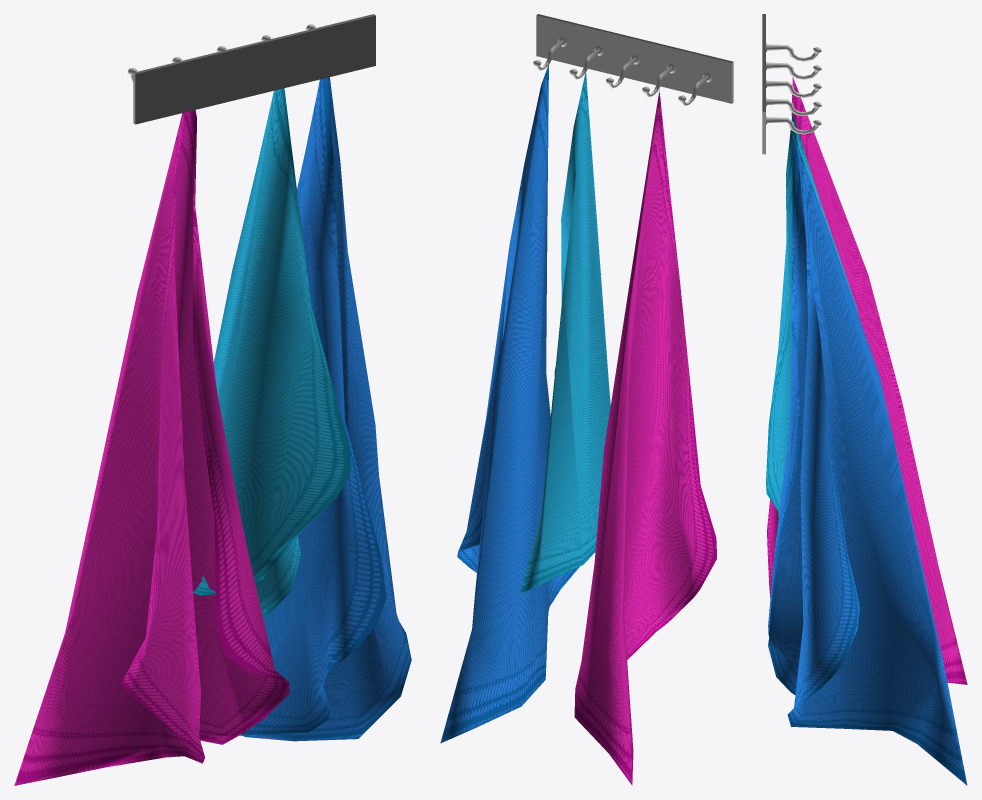
The model's file is veshalka.obj.
The picture shows the model from 3 angles, left to right: view 1: azimuth 30°, elevation 25°; view 2: azimuth 150°, elevation 25°; view 3: azimuth 270°, elevation 25°; orthographic projection. The views are drawn at different scales.
Visible parts, largest first — view 1: obj3, obj2; view 2: obj3, obj2, obj1; view 3: obj3, obj1, obj2.
Boxes of the visible parts, x1,y1,x2,y2 form: obj3: [14, 77, 411, 785]; obj2: [133, 14, 375, 124]; obj3: [440, 65, 716, 785]; obj2: [536, 14, 733, 103]; obj1: [533, 37, 712, 106]; obj3: [766, 77, 967, 785]; obj1: [766, 43, 821, 134]; obj2: [762, 14, 765, 154].
Size of the model in its own units: 2.7 by 6.81 by 1.88.
3 materials, 1 textured.
